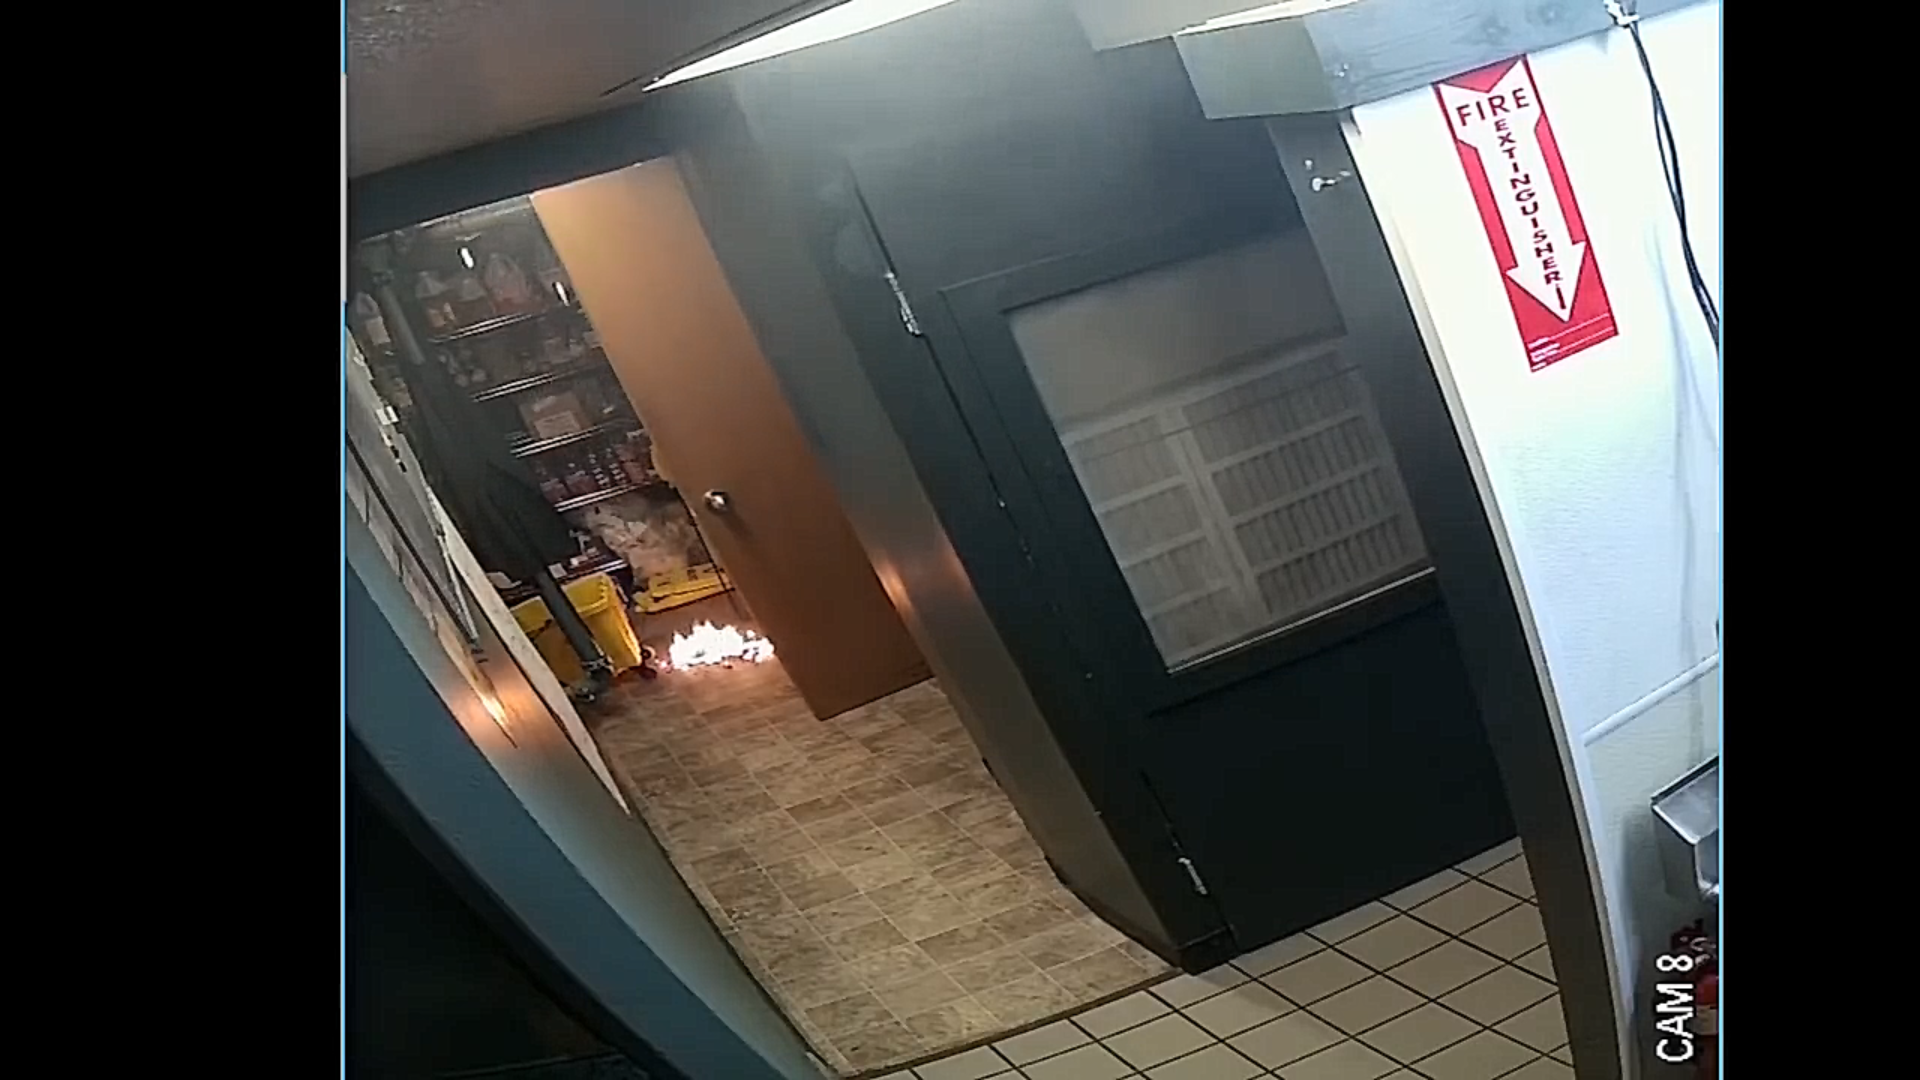fire: (647, 615, 785, 676)
